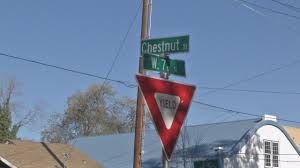yield_sign: (134, 73, 196, 162)
